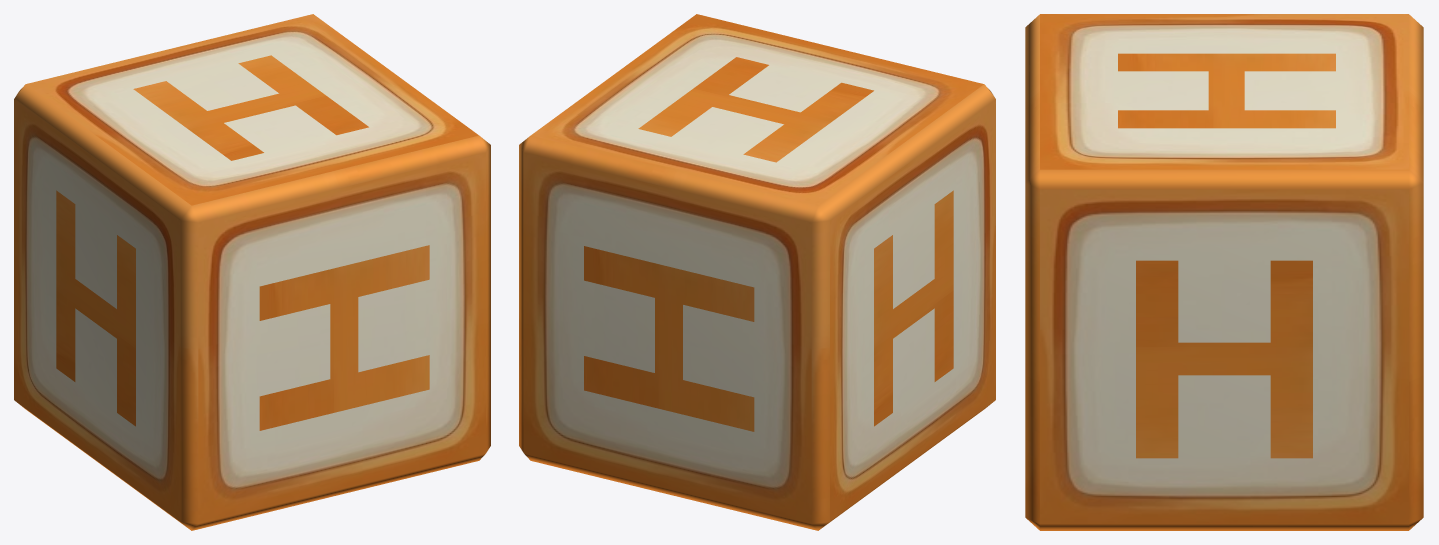
The model's file is CubeH.glb.
The picture shows the model from 3 angles, left to right: view 1: azimuth 30°, elevation 25°; view 2: azimuth 150°, elevation 25°; view 3: azimuth 270°, elevation 25°; orthographic projection. The views are drawn at different scales.
Visible parts, largest first — view 1: CubeH; view 2: CubeH; view 3: CubeH.
Part boxes in pixels (box(x1,y1,x2,y2)): CubeH: box(14, 14, 490, 530); CubeH: box(519, 14, 995, 530); CubeH: box(1025, 14, 1423, 530).
Size of what is drawn, in the model's own units: 0.513 by 0.513 by 0.513.
1 material, 1 textured.
